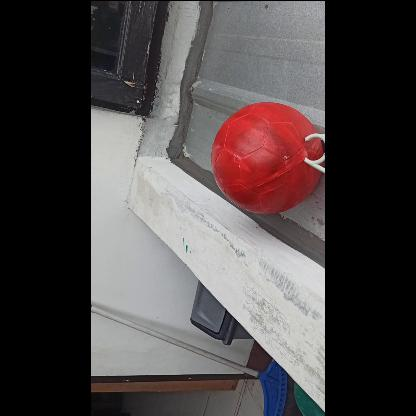red_ball: (208, 100, 322, 212)
